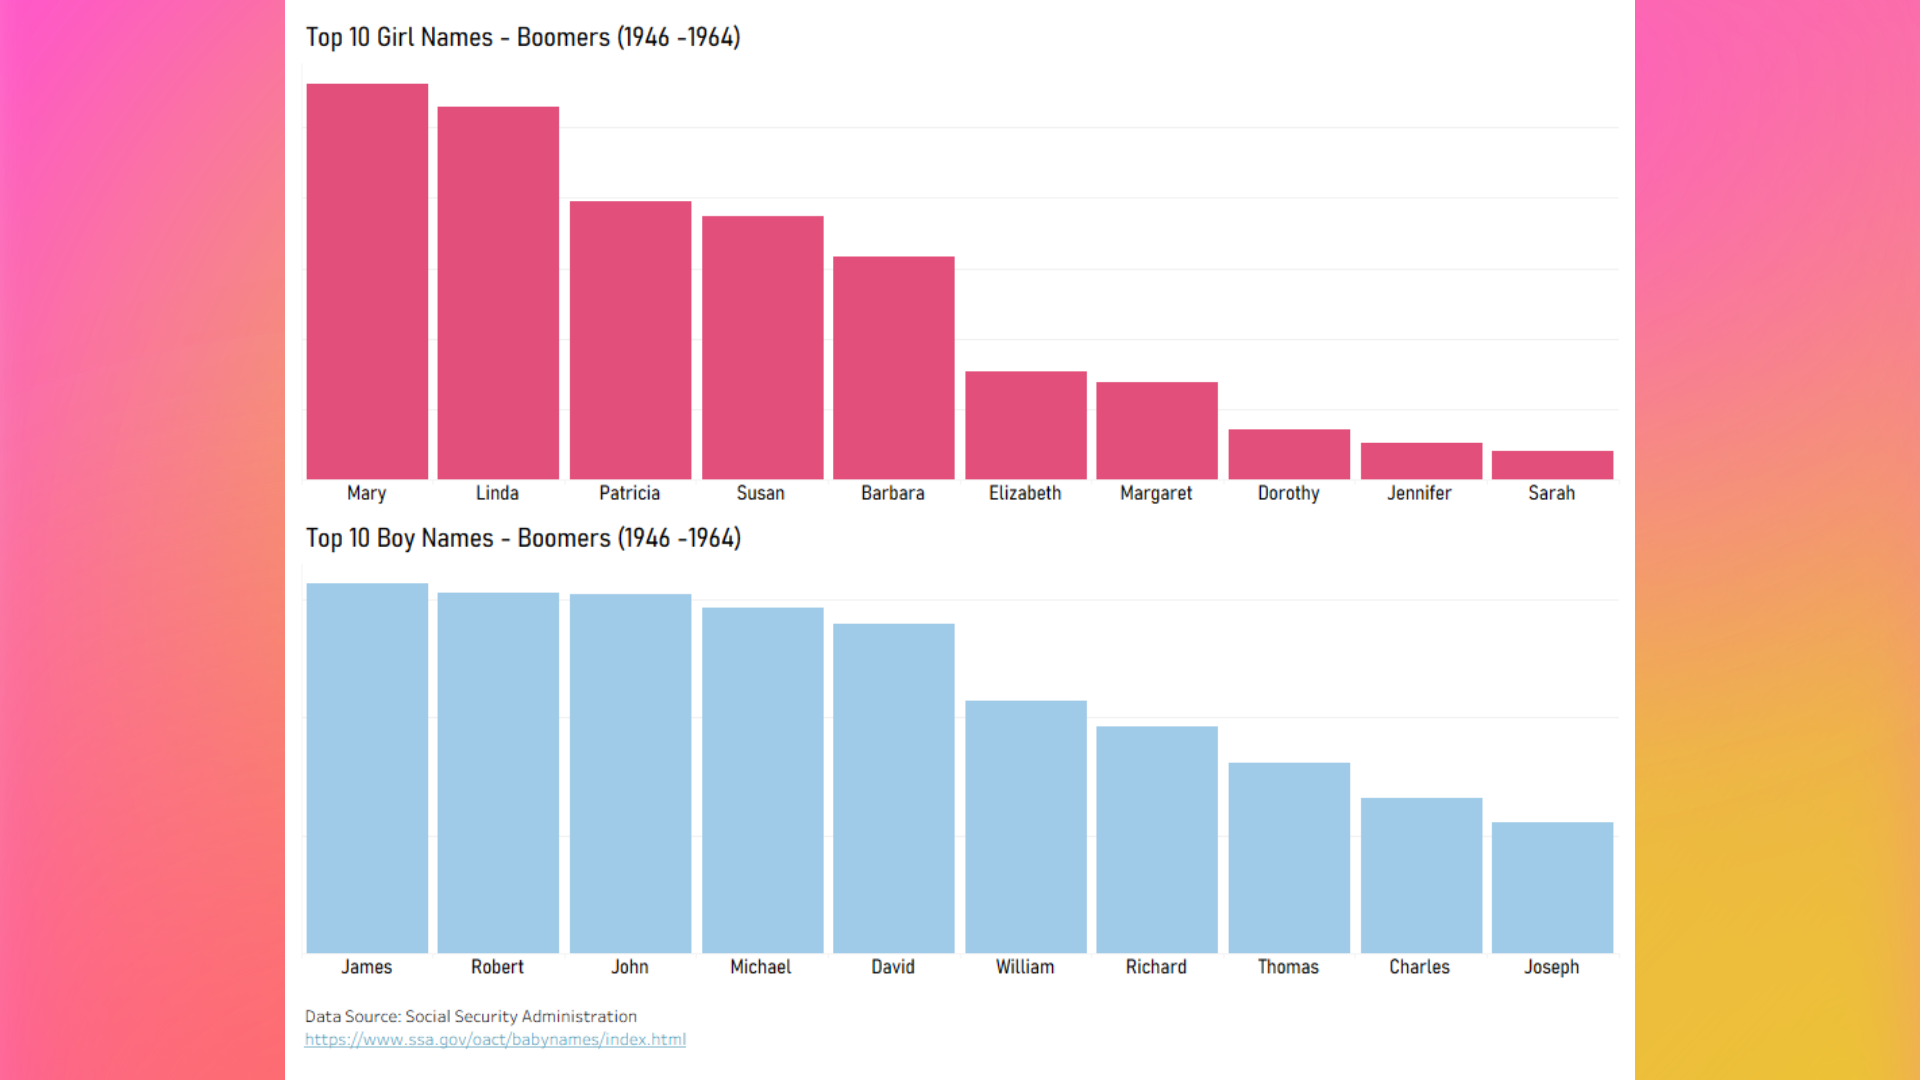

Layout of this report page (visuals, bound fields, positions):
{"tool":"tableau","page":{"name":"Top 10 Baby Names Boomers","canvas":[1000,800],"ordinal":0},"visuals":[{"type":"worksheet","title":"Top 10 Girl Names - Boomers (1946 -1964)","mark":"Bar","rows":["count"],"cols":["name"],"box":[8,8,984,371]},{"type":"worksheet","title":"Top 10 Boy Names - Boomers (1946 - 1964)","mark":"Bar","rows":["count"],"cols":["name"],"box":[8,379,984,351]},{"type":"text","box":[8,730,984,62]}]}

Visuals, with their boxes on the page's 1000x800 design canvas (x1, y1, x2, y2). These are canvas units, not pixel positions in the 1920x1080 screenshot, which may show the page scaled, cropped or inside an application window:
"Top 10 Girl Names - Boomers (1946 -1964)" worksheet (Bar marks): pyautogui.locateOnScreen(8, 8, 992, 379)
"Top 10 Boy Names - Boomers (1946 - 1964)" worksheet (Bar marks): pyautogui.locateOnScreen(8, 379, 992, 730)
text: pyautogui.locateOnScreen(8, 730, 992, 792)
